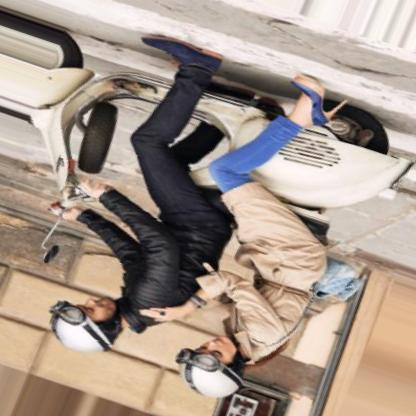with helmet: (175, 335, 251, 400), (49, 297, 124, 354)
